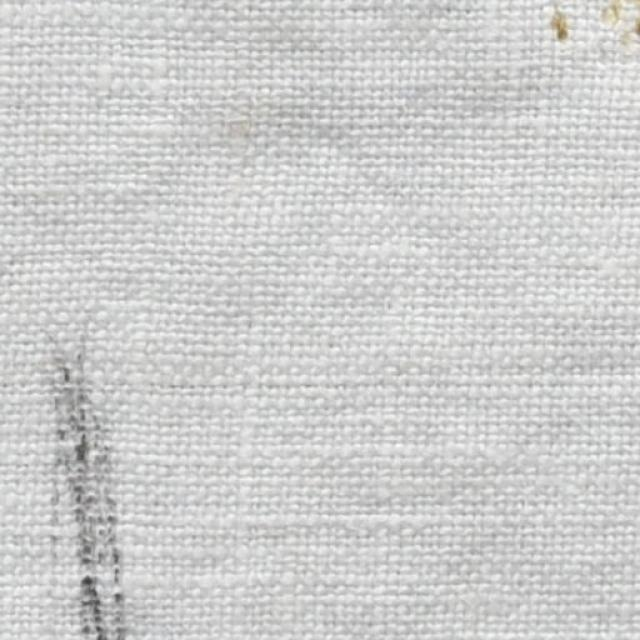Stain: (28, 318, 129, 639), (550, 8, 639, 46)
